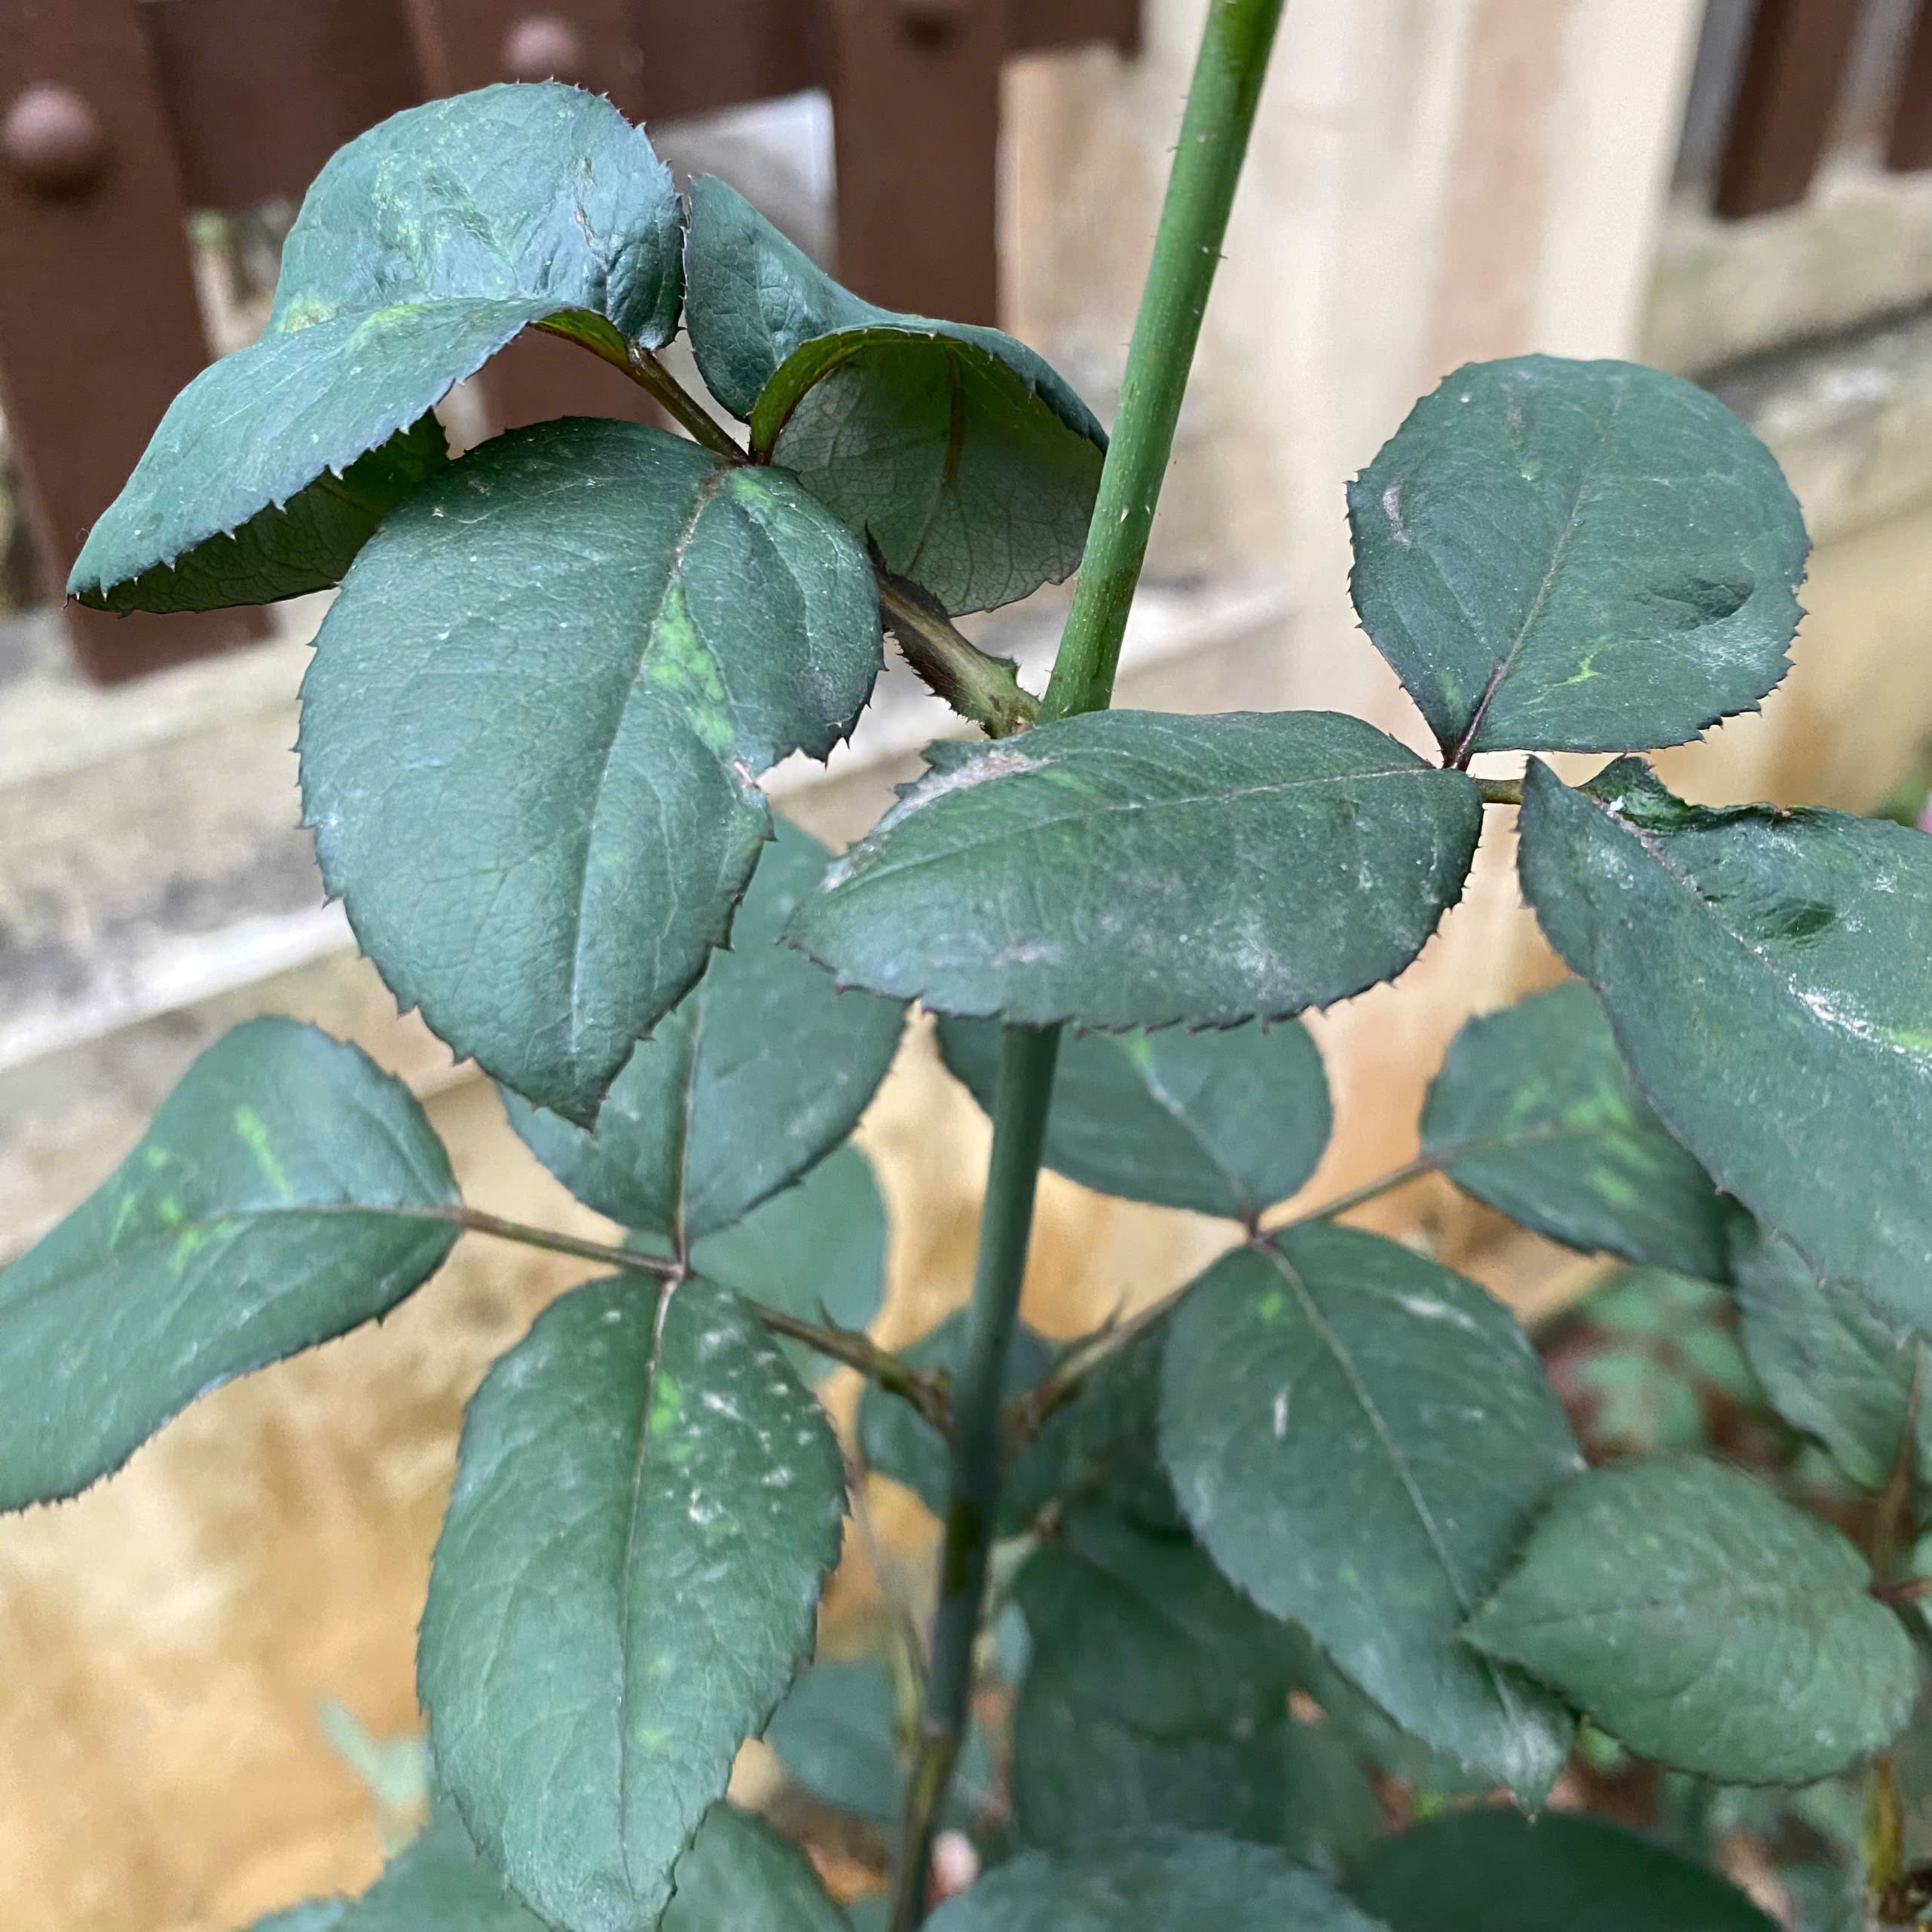hoa_hong_do: (104, 101, 1790, 1932)
